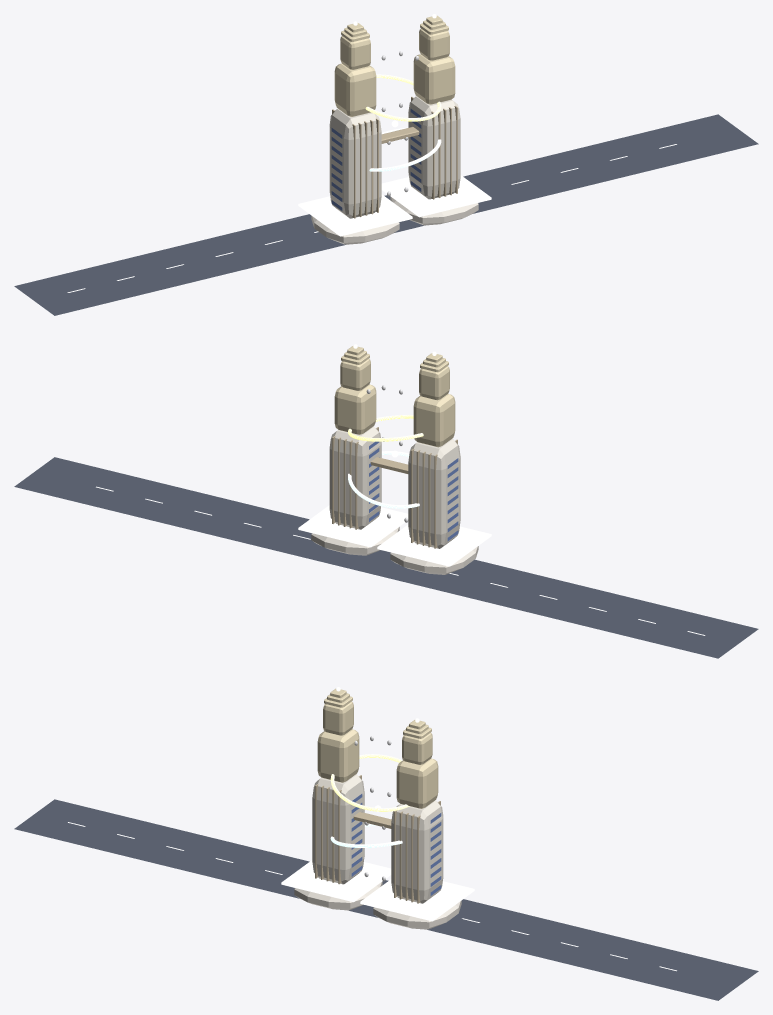
The model's file is studio-city.glb.
3 renders of one model, top to bottom at view 1: azimuth 30°, elevation 25°; view 2: azimuth 150°, elevation 25°; view 3: azimuth 330°, elevation 25°, orthographic.
Visible parts, largest first — view 1: CotaiStrip_Road, Tower_A_Block_0, Tower_B_Block_0, Tower_A_Band, Tower_B_Band, Tower_A_Block_1, Tower_B_Block_1, Tower_A_Podium, Tower_A_Block_2, Tower_B_Podium, Tower_B_Block_2, Ring_A_Gold; view 2: CotaiStrip_Road, Tower_A_Block_0, Tower_B_Block_0, Tower_A_Band, Tower_B_Band, Tower_A_Block_1, Tower_B_Block_1, Tower_A_Podium, Tower_A_Block_2, Tower_B_Podium, Tower_B_Block_2; view 3: CotaiStrip_Road, Tower_A_Block_0, Tower_B_Block_0, Tower_B_Band, Tower_A_Band, Tower_A_Block_1, Tower_B_Block_1, Tower_B_Podium, Tower_A_Block_2, Tower_A_Podium, Tower_B_Block_2, Ring_A_Gold.
Part boxes in pixels (x1,y1,x2,y2): CotaiStrip_Road: [14, 114, 758, 315]; Tower_A_Block_0: [329, 108, 381, 218]; Tower_B_Block_0: [408, 96, 460, 199]; Tower_A_Band: [298, 194, 412, 236]; Tower_B_Band: [381, 175, 491, 217]; Tower_A_Block_1: [334, 63, 376, 116]; Tower_B_Block_1: [413, 54, 455, 104]; Tower_A_Podium: [311, 215, 399, 244]; Tower_A_Block_2: [340, 36, 370, 69]; Tower_B_Podium: [390, 196, 478, 225]; Tower_B_Block_2: [419, 28, 449, 60]; Ring_A_Gold: [365, 74, 441, 121]; CotaiStrip_Road: [14, 457, 758, 658]; Tower_A_Block_0: [408, 439, 460, 548]; Tower_B_Block_0: [329, 426, 381, 529]; Tower_A_Band: [377, 525, 491, 566]; Tower_B_Band: [298, 505, 408, 547]; Tower_A_Block_1: [413, 393, 455, 447]; Tower_B_Block_1: [334, 384, 376, 434]; Tower_A_Podium: [390, 546, 478, 574]; Tower_A_Block_2: [419, 366, 449, 400]; Tower_B_Podium: [311, 527, 399, 555]; Tower_B_Block_2: [340, 359, 370, 390]; CotaiStrip_Road: [14, 799, 758, 1000]; Tower_A_Block_0: [312, 774, 364, 884]; Tower_B_Block_0: [391, 800, 443, 903]; Tower_B_Band: [360, 879, 474, 921]; Tower_A_Band: [281, 860, 391, 902]; Tower_A_Block_1: [317, 729, 359, 782]; Tower_B_Block_1: [396, 758, 438, 808]; Tower_B_Podium: [373, 900, 461, 929]; Tower_A_Block_2: [323, 701, 353, 735]; Tower_A_Podium: [294, 881, 382, 910]; Tower_B_Block_2: [402, 732, 432, 764]; Ring_A_Gold: [330, 754, 409, 811].
Size of what is drawn, in the model's own units: 200 by 56.87 by 25.76.
